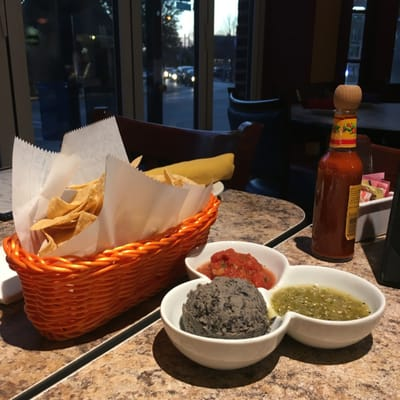sushi: (2, 189, 221, 343), (161, 275, 293, 370), (267, 266, 387, 351)
